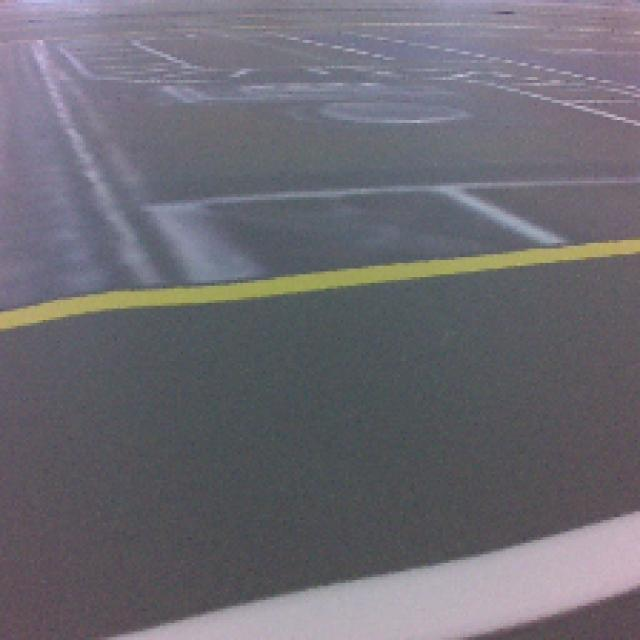Guard rail: (131, 516, 638, 640)
